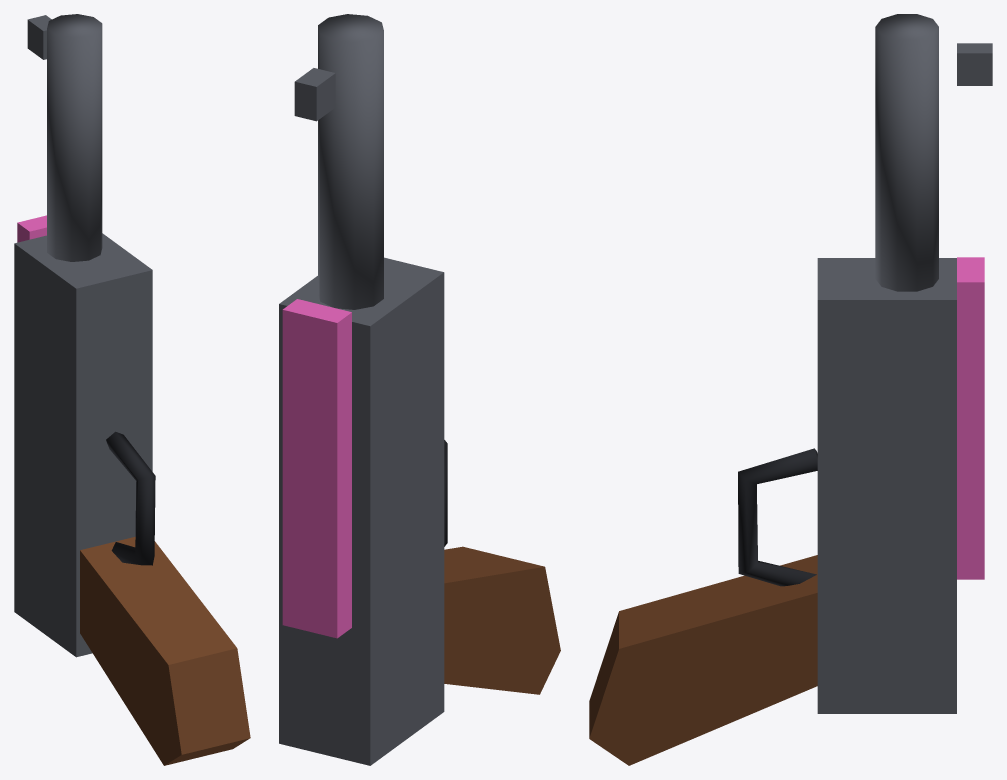
The model's file is confetti_gun.glb.
3 renders of one model, left to right at view 1: azimuth 30°, elevation 25°; view 2: azimuth 150°, elevation 25°; view 3: azimuth 270°, elevation 25°, orthographic. The views are drawn at different scales.
Visible parts, largest first — view 1: confetti_gun_v0; view 2: confetti_gun_v0; view 3: confetti_gun_v0.
Part boxes in pixels (box(x1,y1,x2,y2)): confetti_gun_v0: box(14, 14, 250, 765); confetti_gun_v0: box(279, 14, 560, 765); confetti_gun_v0: box(589, 14, 992, 765).
Size of the model in its own units: 0.05 by 0.4 by 0.203.
